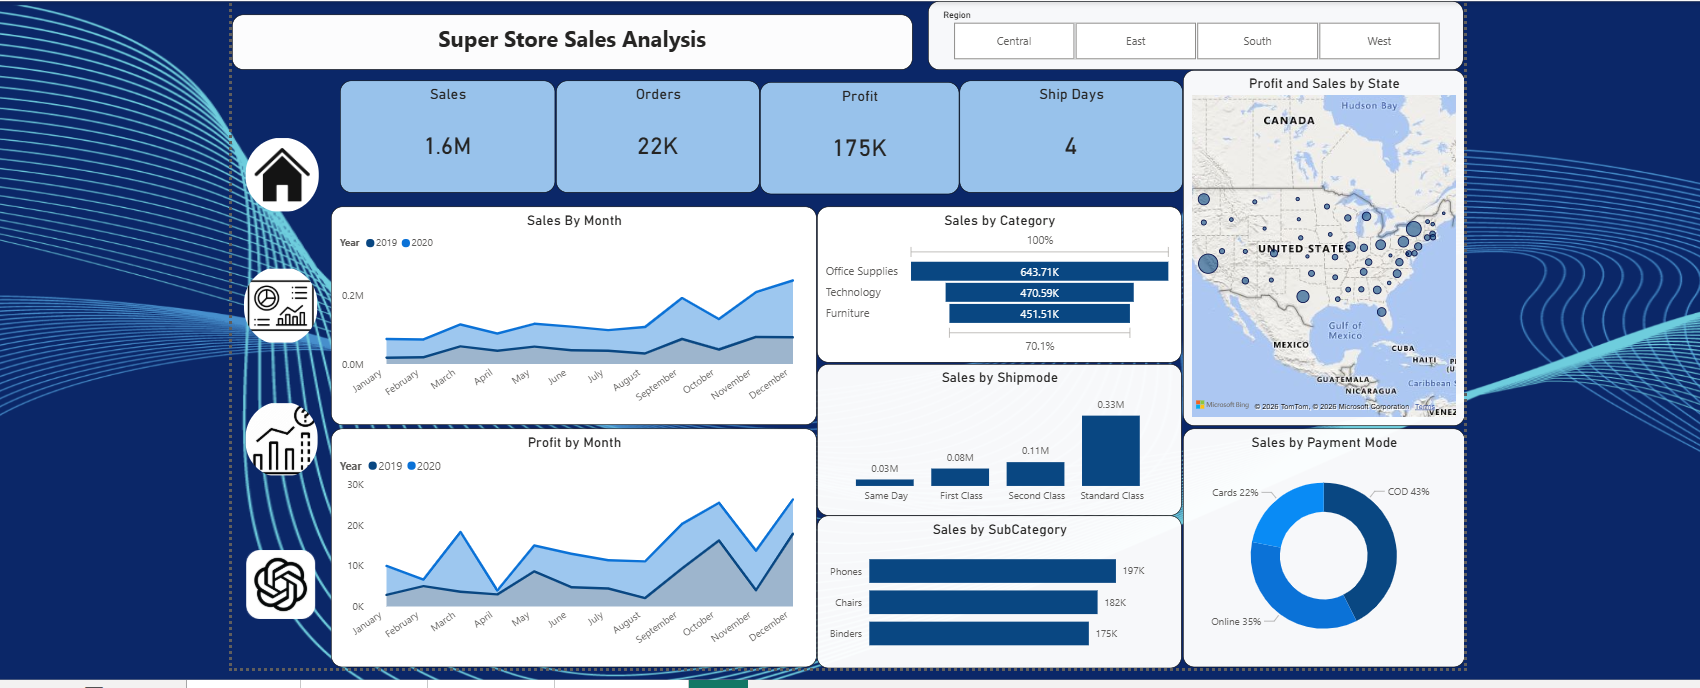

This screenshot's page, from the dashboard's own definition file:
{"tool":"powerbi","page":{"name":"Analysis","canvas":[1500,812],"ordinal":1},"visuals":[{"type":"funnel","title":"Sales by Category","fields":{"Category":["SuperStore_Sales_Dataset.Category"],"Y":["Sum(SuperStore_Sales_Dataset.Sales)"]},"box":[713,251,444.1,190.3],"z":0},{"type":"clusteredBarChart","title":"Sales by SubCategory","fields":{"Category":["SuperStore_Sales_Dataset.Category","SuperStore_Sales_Dataset.Sub-Category"],"Y":["Sum(SuperStore_Sales_Dataset.Sales)"]},"box":[713,626.1,444.1,186.2],"z":1000},{"type":"columnChart","title":"Sales by Shipmode","fields":{"Category":["SuperStore_Sales_Dataset.Ship Mode"],"Y":["Sum(SuperStore_Sales_Dataset.Sales)"]},"box":[713,441.3,444.1,184.8],"z":2000},{"type":"stackedAreaChart","title":"Sales By Month","fields":{"Y":["Sum(SuperStore_Sales_Dataset.Sales)"],"Category":["SuperStore_Sales_Dataset.Order Date.Variation.Date Hierarchy.Month","SuperStore_Sales_Dataset.Order Date.Variation.Date Hierarchy.Day"],"Series":["SuperStore_Sales_Dataset.Order Date.Variation.Date Hierarchy.Year"]},"box":[121.4,251,591.6,266.2],"z":3000},{"type":"stackedAreaChart","title":"Profit by Month","fields":{"Category":["SuperStore_Sales_Dataset.Order Date.Variation.Date Hierarchy.Month","SuperStore_Sales_Dataset.Order Date.Variation.Date Hierarchy.Day"],"Series":["SuperStore_Sales_Dataset.Order Date.Variation.Date Hierarchy.Year"],"Y":["Sum(SuperStore_Sales_Dataset.Profit)"]},"box":[121.4,521.3,591.6,291],"z":4000},{"type":"map","title":"Profit and Sales by State","fields":{"Category":["SuperStore_Sales_Dataset.State"],"Size":["Sum(SuperStore_Sales_Dataset.Sales)"]},"box":[1157.1,84.1,343.4,433],"z":5000},{"type":"donutChart","title":" Sales by Payment Mode","fields":{"Category":["SuperStore_Sales_Dataset.Payment Mode"],"Y":["Sum(SuperStore_Sales_Dataset.Sales)"]},"box":[1157.1,521.3,343.4,291],"z":6000},{"type":"slicer","fields":{"Values":["SuperStore_Sales_Dataset.Region"]},"box":[848.1,0,652.3,84.1],"z":7000},{"type":"textbox","box":[0,16.5,828.8,67.6],"z":8000},{"type":"card","title":"Sales","fields":{"Values":["Sum(SuperStore_Sales_Dataset.Sales)"]},"box":[132.4,96.5,262,136.5],"z":9000},{"type":"card","title":"Orders","fields":{"Values":["Sum(SuperStore_Sales_Dataset.Quantity)"]},"box":[394.4,96.5,248.2,136.5],"z":10000},{"type":"card","title":"Profit","fields":{"Values":["Sum(SuperStore_Sales_Dataset.Profit)"]},"box":[642.7,97.9,242.7,136.5],"z":11000},{"type":"card","title":"Ship Days","fields":{"Values":["Avg(SuperStore_Sales_Dataset.Average Delivery)"]},"box":[885.4,96.5,271.7,136.5],"z":12000},{"type":"image","box":[16.5,166.9,89.6,91],"z":13000},{"type":"image","box":[15.2,322.7,89.6,95.2],"z":14000},{"type":"image","box":[16.5,488.2,88.3,92.4],"z":15000},{"type":"image","box":[15.2,667.5,89.6,84.1],"z":16000}]}

Visuals, with their boxes on the page's 1500x812 design canvas (x1, y1, x2, y2). These are canvas units, not pixel positions in the 1700x688 screenshot, which may show the page scaled, cropped or inside an application window:
"Sales by Category" funnel: (left=713, top=251, right=1157, bottom=441)
"Sales by SubCategory" clusteredBarChart: (left=713, top=626, right=1157, bottom=812)
"Sales by Shipmode" columnChart: (left=713, top=441, right=1157, bottom=626)
"Sales By Month" stackedAreaChart: (left=121, top=251, right=713, bottom=517)
"Profit by Month" stackedAreaChart: (left=121, top=521, right=713, bottom=812)
"Profit and Sales by State" map: (left=1157, top=84, right=1500, bottom=517)
" Sales by Payment Mode" donutChart: (left=1157, top=521, right=1500, bottom=812)
slicer - SuperStore_Sales_Dataset.Region: (left=848, top=0, right=1500, bottom=84)
textbox: (left=0, top=16, right=829, bottom=84)
"Sales" card: (left=132, top=96, right=394, bottom=233)
"Orders" card: (left=394, top=96, right=643, bottom=233)
"Profit" card: (left=643, top=98, right=885, bottom=234)
"Ship Days" card: (left=885, top=96, right=1157, bottom=233)
image: (left=16, top=167, right=106, bottom=258)
image: (left=15, top=323, right=105, bottom=418)
image: (left=16, top=488, right=105, bottom=581)
image: (left=15, top=668, right=105, bottom=752)
